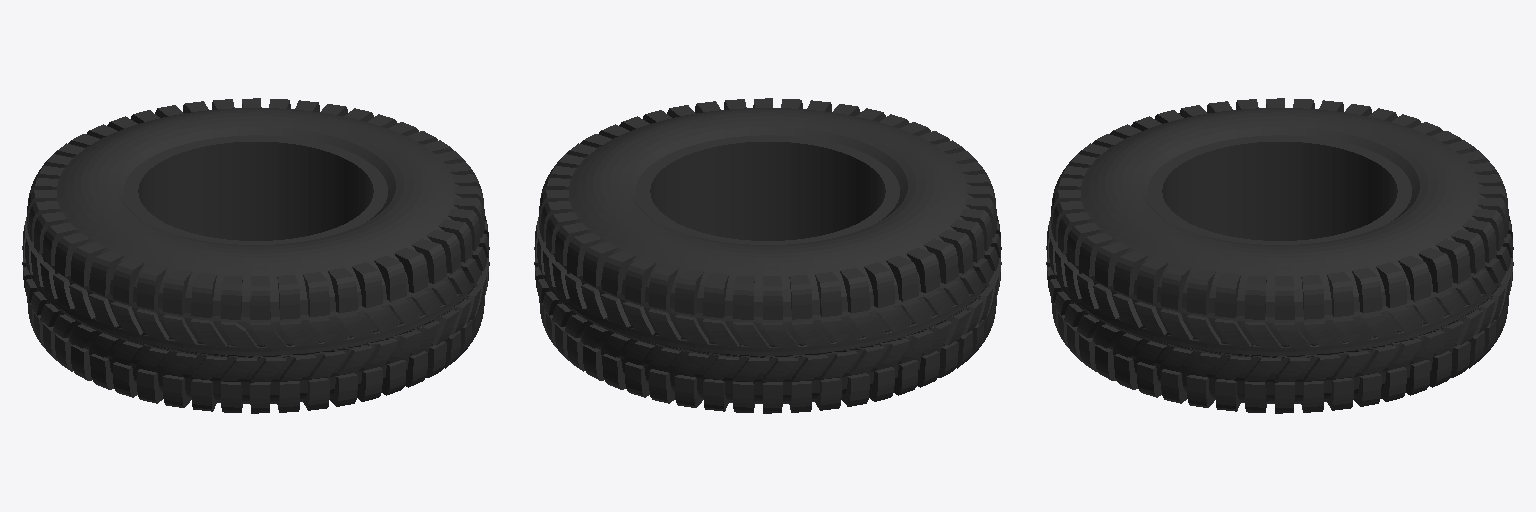
The model's file is left_tire.obj.
3 renders of one model, left to right at view 1: azimuth 30°, elevation 25°; view 2: azimuth 150°, elevation 25°; view 3: azimuth 270°, elevation 25°, orthographic.
Parts seen in each view (by area): view 1: Tire_wheel1.001; view 2: Tire_wheel1.001; view 3: Tire_wheel1.001.
Boxes of the visible parts, <box> form: Tire_wheel1.001: <box>22,98,489,413</box>; Tire_wheel1.001: <box>534,98,1001,413</box>; Tire_wheel1.001: <box>1046,98,1513,413</box>.
Size of the model in its own units: 0.9067 by 0.3128 by 0.9067.